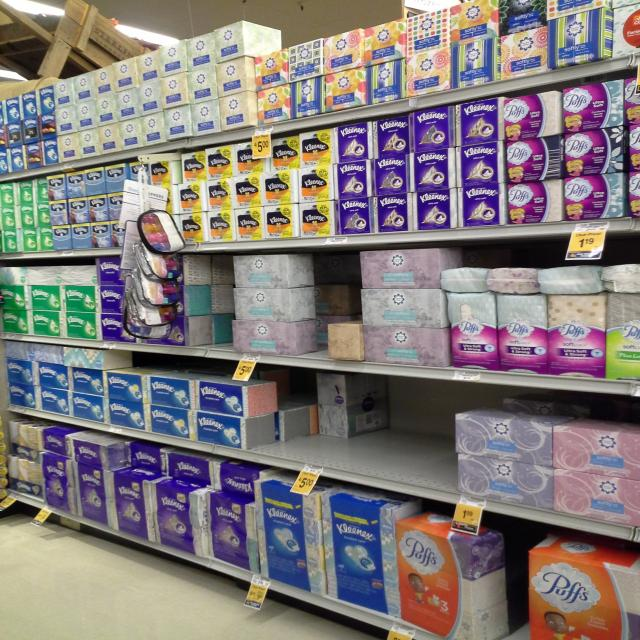empty: (346, 386, 462, 482)
